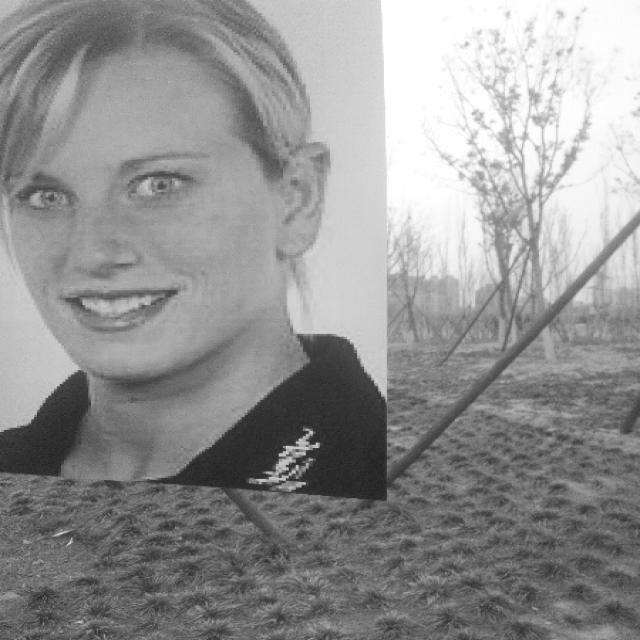fake: (0, 0, 398, 506)
